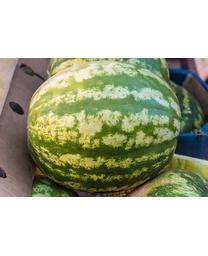watermelon: (26, 61, 182, 190)
